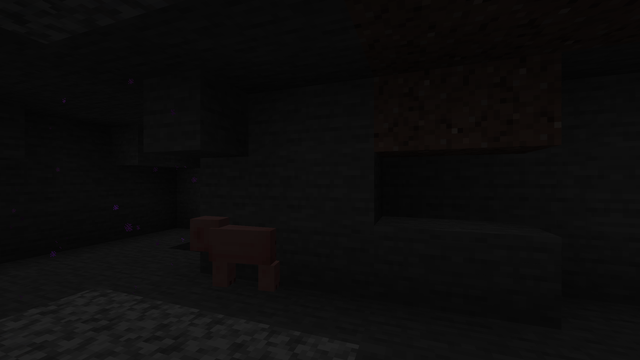cochons: (205, 221, 274, 296)
